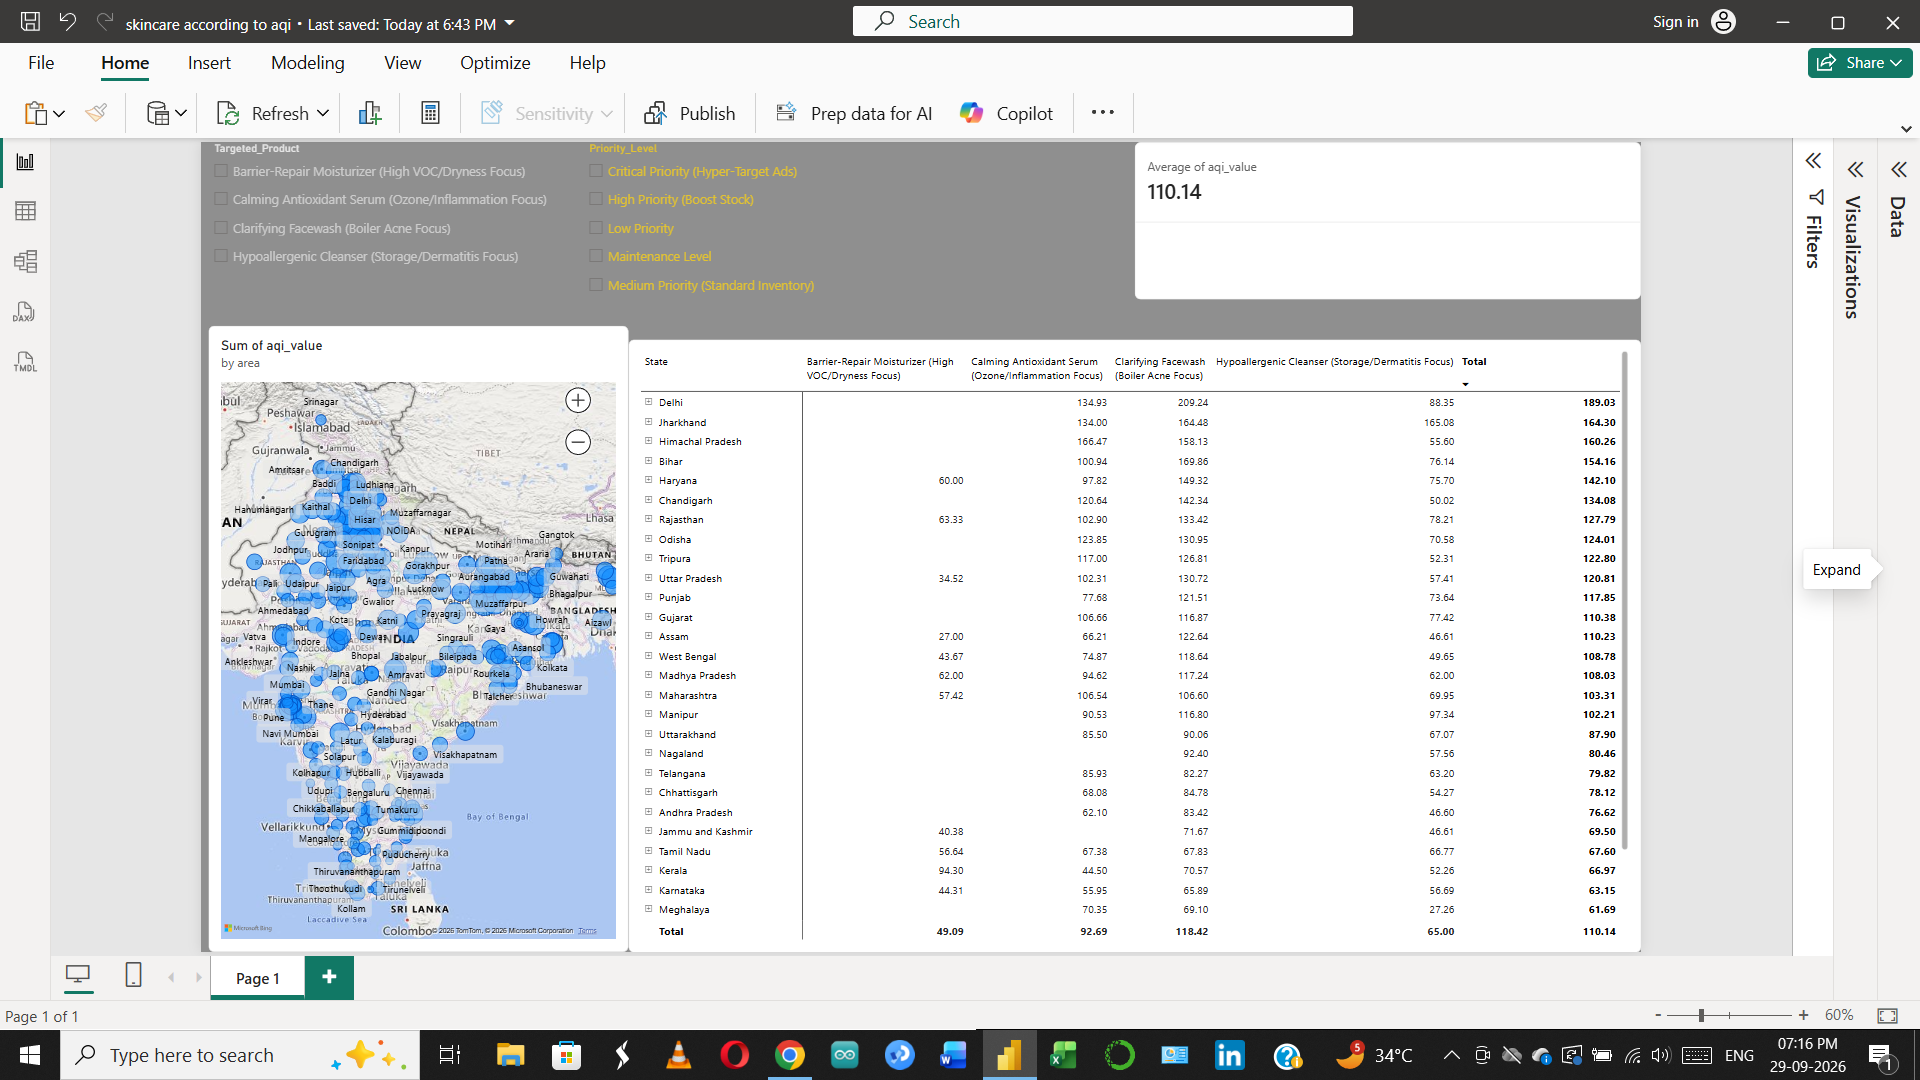

The dashboard page shown, as its layout file describes it:
{"tool":"powerbi","page":{"name":"Page 1","canvas":[1920,1080],"ordinal":0},"visuals":[{"type":"slicer","fields":{"Values":["aqi.Targeted_Product"]},"box":[10,0,500,210],"z":0},{"type":"slicer","fields":{"Values":["aqi.Priority_Level"]},"box":[510,0,800,210],"z":1000},{"type":"cardVisual","fields":{"Data":["Avg(aqi.aqi_value)"]},"box":[1245,0,675,210],"z":2000},{"type":"map","fields":{"Category":["aqi.area","aqi.state"],"Size":["Sum(aqi.aqi_value)"]},"box":[10,245,560,835],"z":3000},{"type":"pivotTable","fields":{"Columns":["aqi.Targeted_Product"],"Rows":["aqi.state","aqi.area"],"Values":["Avg(aqi.aqi_value)"]},"box":[570,262.5,1350,817.5],"z":4000}]}

Visuals, with their boxes on the page's 1920x1080 design canvas (x1, y1, x2, y2). These are canvas units, not pixel positions in the 1920x1080 screenshot, which may show the page scaled, cropped or inside an application window:
slicer - aqi.Targeted_Product: box(10, 0, 510, 210)
slicer - aqi.Priority_Level: box(510, 0, 1310, 210)
cardVisual - Avg(aqi.aqi_value): box(1245, 0, 1920, 210)
map - aqi.area x aqi.state: box(10, 245, 570, 1080)
pivotTable - aqi.Targeted_Product x aqi.state: box(570, 262, 1920, 1080)
